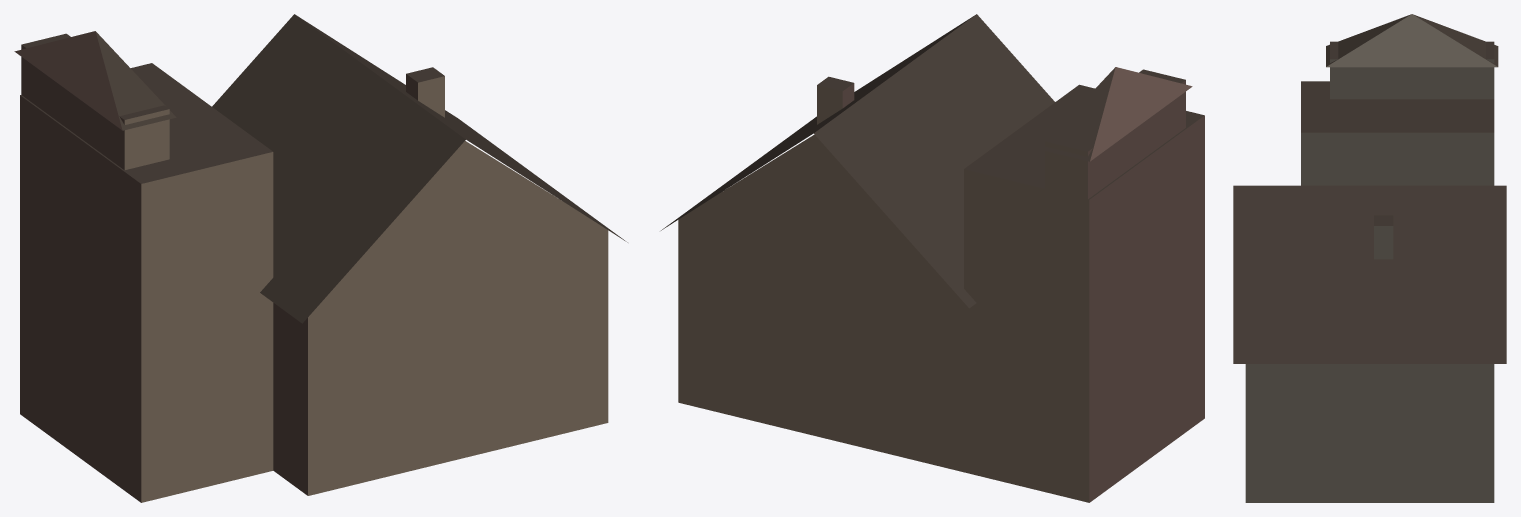
The model's file is ns-cottage-tower.far-facades-v3.lod2.glb.
3 views of the same model, side by side, from view 1: azimuth 30°, elevation 25°; view 2: azimuth 150°, elevation 25°; view 3: azimuth 270°, elevation 25° (orthographic). The views are drawn at different scales.
Parts seen in each view (by area): view 1: ns-cottage-tower; view 2: ns-cottage-tower; view 3: ns-cottage-tower.
Part boxes in pixels (x1,y1,x2,y2): ns-cottage-tower: [14, 14, 627, 502]; ns-cottage-tower: [661, 14, 1204, 502]; ns-cottage-tower: [1233, 14, 1506, 502].
Bounding box in the file's own units: 14.95 × 13.21 × 9.9.
